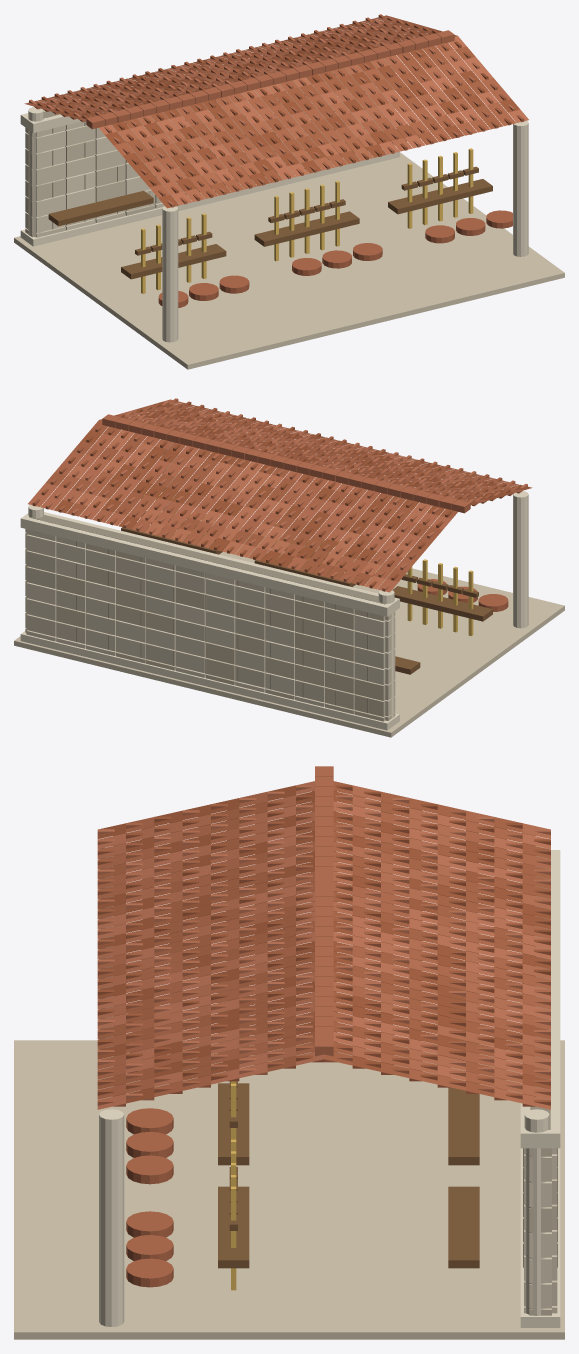
3 renders of one model, top to bottom at view 1: azimuth 30°, elevation 25°; view 2: azimuth 150°, elevation 25°; view 3: azimuth 270°, elevation 25°, orthographic. The views are drawn at different scales.
Visible parts, largest first — view 1: Bergfried – Steine, Säulen, Ziegel und Feuerstelle; view 2: Bergfried – Steine, Säulen, Ziegel und Feuerstelle; view 3: Bergfried – Steine, Säulen, Ziegel und Feuerstelle.
Part boxes in pixels (bbox=[...]): Bergfried – Steine, Säulen, Ziegel und Feuerstelle: bbox=[14, 14, 564, 369]; Bergfried – Steine, Säulen, Ziegel und Feuerstelle: bbox=[14, 398, 564, 737]; Bergfried – Steine, Säulen, Ziegel und Feuerstelle: bbox=[14, 766, 564, 1339].
Size of the model in its own units: 992 by 445 by 790.
